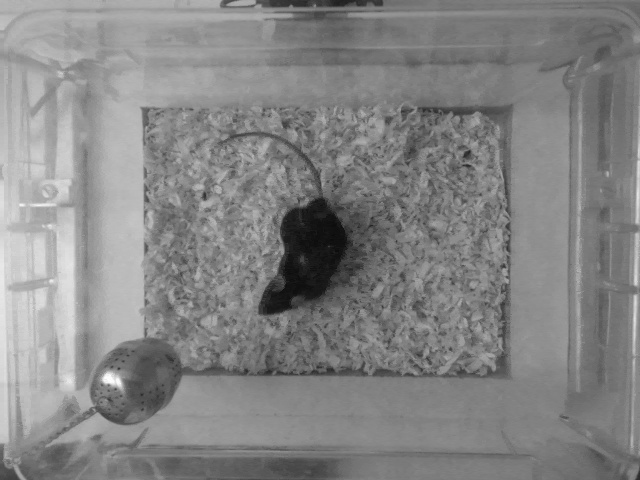mice: (225, 124, 347, 316)
